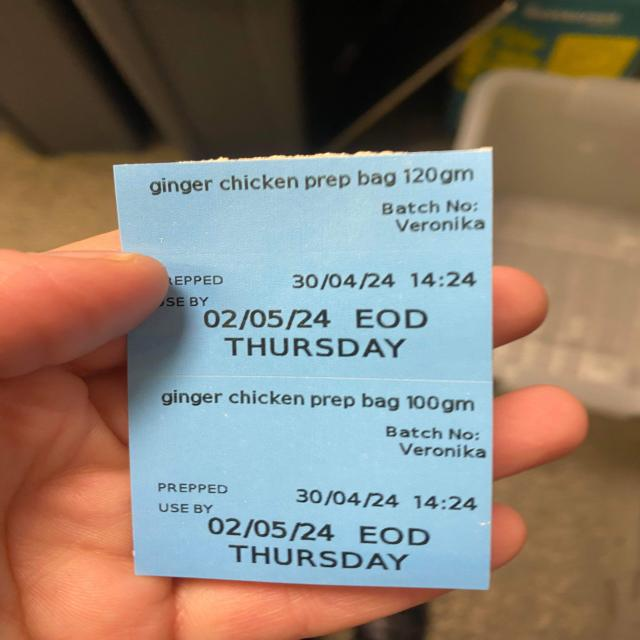product-labels: (114, 150, 492, 384), (126, 376, 492, 589)
